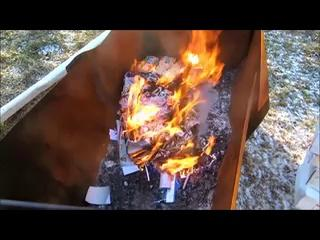Fire: (115, 28, 223, 178)
